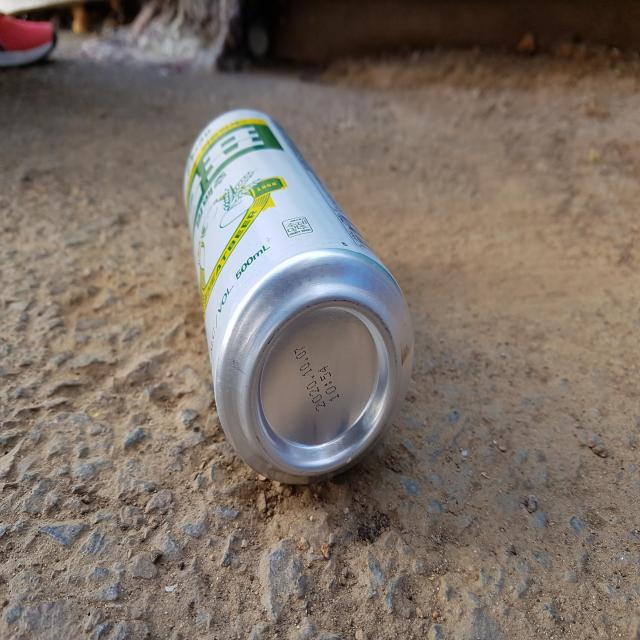can: (184, 108, 414, 484)
